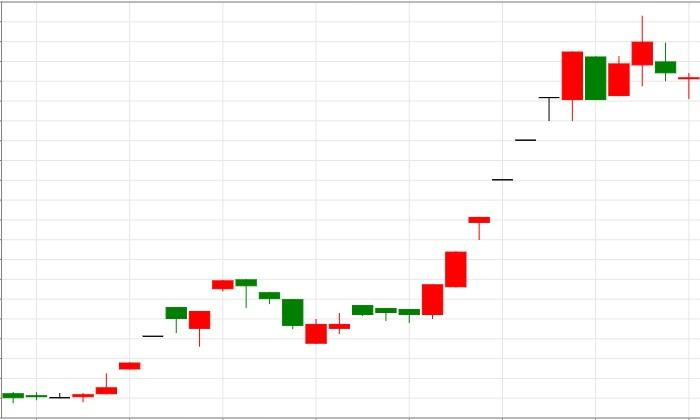three_black_crows_fall: (188, 278, 304, 347)
three_white_soldiers_rise: (352, 217, 489, 324)
